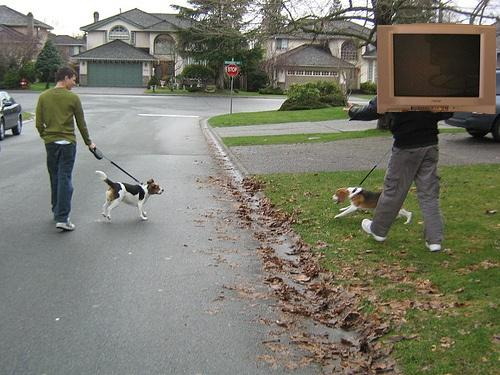tampered: (378, 24, 496, 114)
